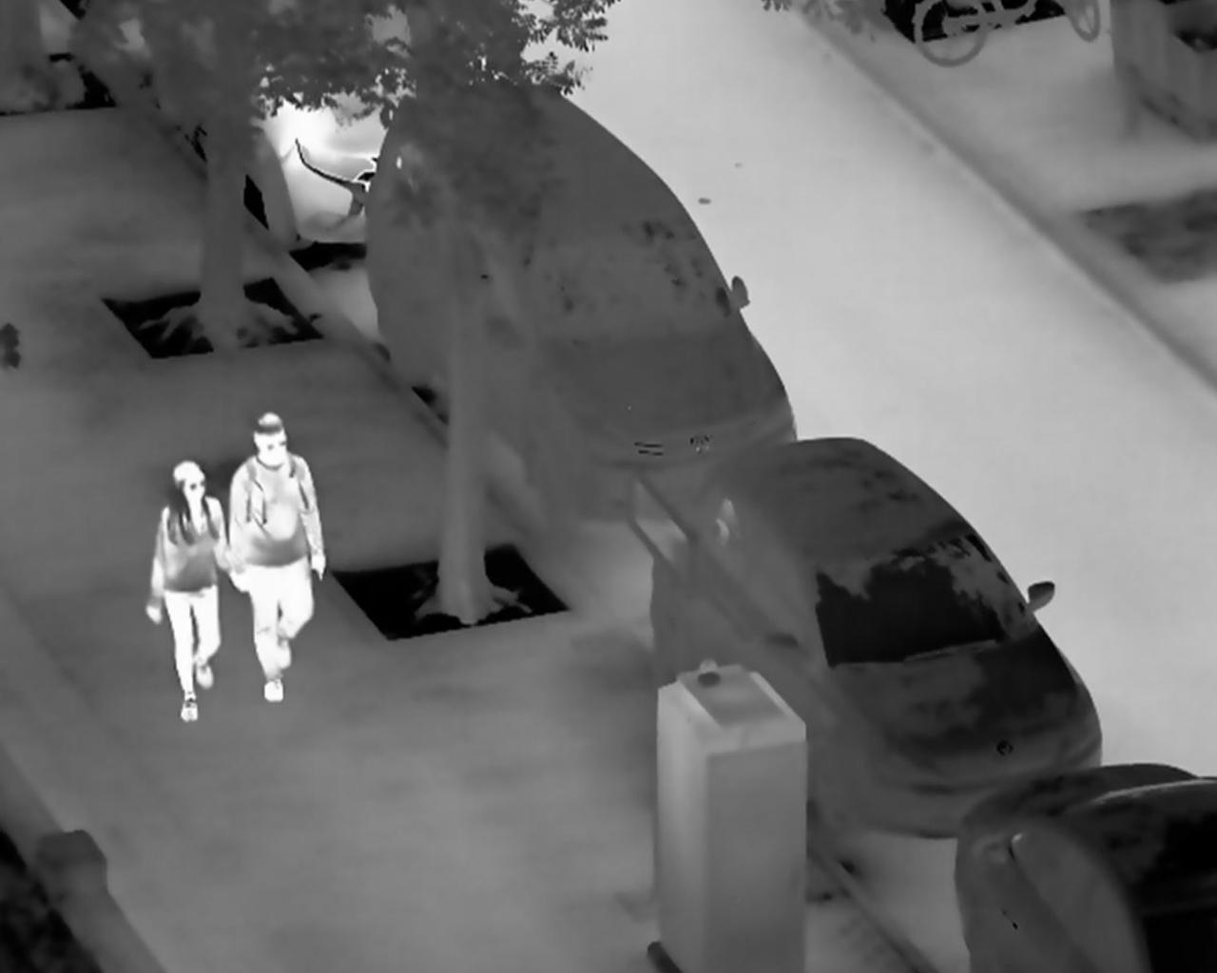person: (225, 410, 330, 702), (145, 456, 232, 727)
